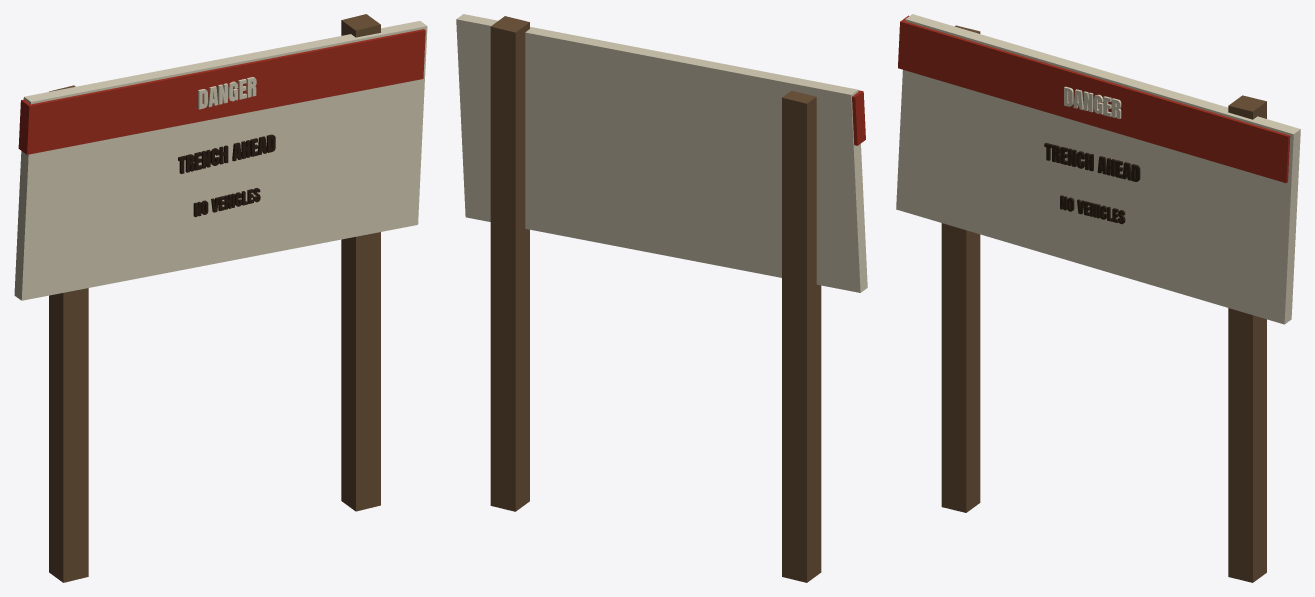
The model's file is SignTrench.glb.
The picture shows the model from 3 angles, left to right: view 1: azimuth 30°, elevation 25°; view 2: azimuth 150°, elevation 25°; view 3: azimuth 330°, elevation 25°; orthographic projection. The views are drawn at different scales.
Visible parts, largest first — view 1: SignTrench.001; view 2: SignTrench.001; view 3: SignTrench.001.
Boxes of the visible parts, left/top/right/bottom form: SignTrench.001: left=14, top=14, right=427, bottom=582; SignTrench.001: left=456, top=14, right=867, bottom=582; SignTrench.001: left=896, top=14, right=1300, bottom=582.
Bounding box in the file's own units: 1.94 × 2.25 × 0.166.
